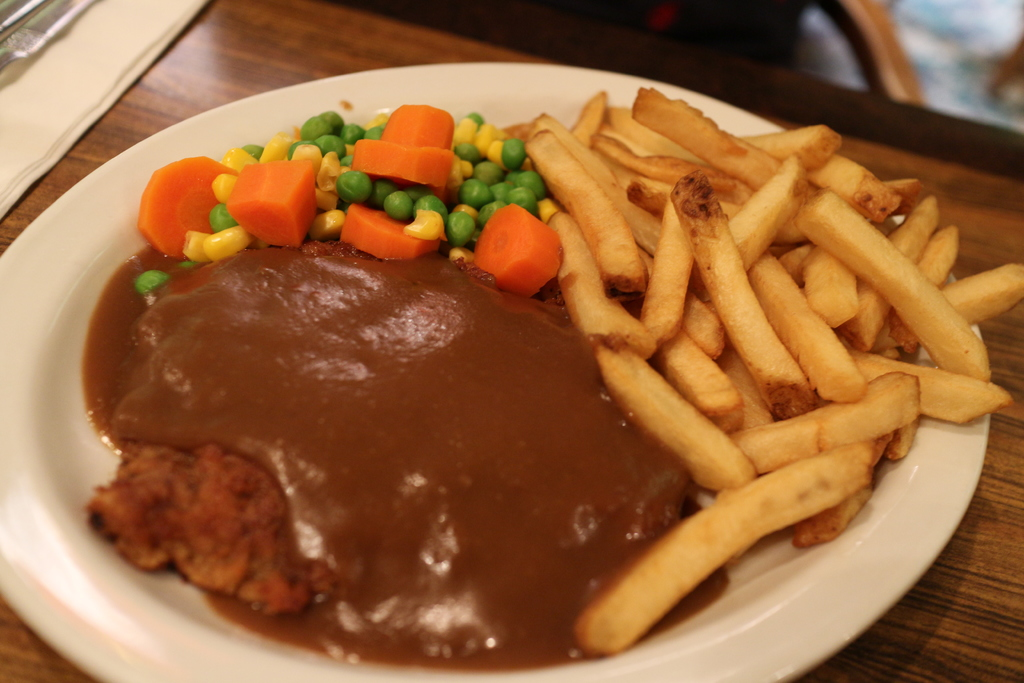French fries: (499, 87, 1023, 661)
